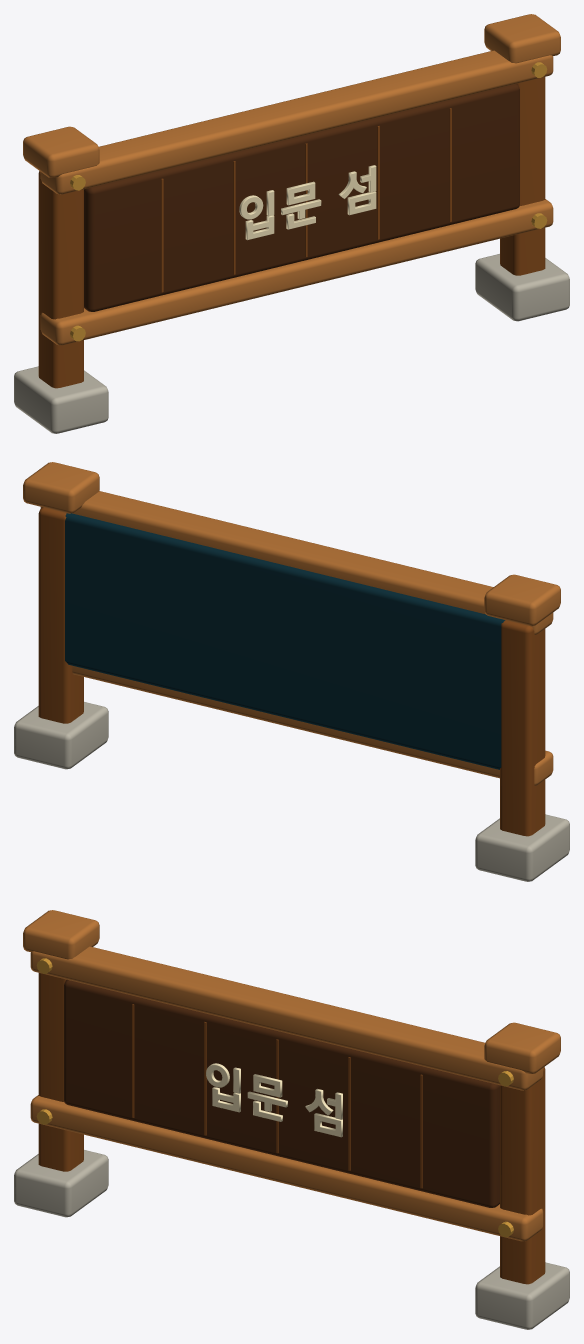
Rendered from OBJ41_sign_intro.glb.
3 renders of one model, top to bottom at view 1: azimuth 30°, elevation 25°; view 2: azimuth 150°, elevation 25°; view 3: azimuth 330°, elevation 25°, orthographic.
Visible parts, largest first — view 1: Wood sign face, Horizontal oak rail.001, Horizontal oak rail, Timber post, Timber post.001, Board foot.001, Board foot, Island title, Post cap, Post cap.001; view 2: Slate panel, Horizontal oak rail.001, Timber post, Timber post.001, Board foot.001, Board foot, Horizontal oak rail, Post cap, Post cap.001; view 3: Wood sign face, Horizontal oak rail.001, Horizontal oak rail, Timber post.001, Timber post, Board foot, Board foot.001, Island title, Post cap.001, Post cap.
Boxes of the visible parts, bbox=[...] form: Wood sign face: bbox=[84, 83, 519, 311]; Horizontal oak rail.001: bbox=[40, 50, 553, 194]; Horizontal oak rail: bbox=[40, 199, 553, 345]; Timber post: bbox=[38, 171, 83, 388]; Timber post.001: bbox=[500, 77, 545, 275]; Board foot.001: bbox=[475, 254, 569, 321]; Board foot: bbox=[14, 366, 108, 433]; Island title: bbox=[239, 165, 376, 240]; Post cap: bbox=[23, 126, 99, 177]; Post cap.001: bbox=[484, 14, 560, 63]; Slate panel: bbox=[65, 513, 505, 769]; Horizontal oak rail.001: bbox=[40, 491, 553, 634]; Timber post: bbox=[500, 620, 545, 836]; Timber post.001: bbox=[38, 507, 83, 723]; Board foot.001: bbox=[14, 702, 108, 769]; Board foot: bbox=[475, 814, 569, 881]; Horizontal oak rail: bbox=[72, 665, 553, 785]; Post cap: bbox=[484, 574, 560, 625]; Post cap.001: bbox=[23, 462, 99, 513]; Wood sign face: bbox=[64, 979, 499, 1207]; Horizontal oak rail.001: bbox=[30, 946, 543, 1090]; Horizontal oak rail: bbox=[30, 1095, 543, 1241]; Timber post.001: bbox=[500, 1067, 545, 1284]; Timber post: bbox=[38, 973, 83, 1171]; Board foot: bbox=[14, 1150, 108, 1217]; Board foot.001: bbox=[475, 1262, 569, 1329]; Island title: bbox=[206, 1063, 342, 1137]; Post cap.001: bbox=[484, 1022, 560, 1073]; Post cap: bbox=[23, 910, 99, 959].
Bounding box in the file's own units: 3.6 × 1.82 × 0.5.
